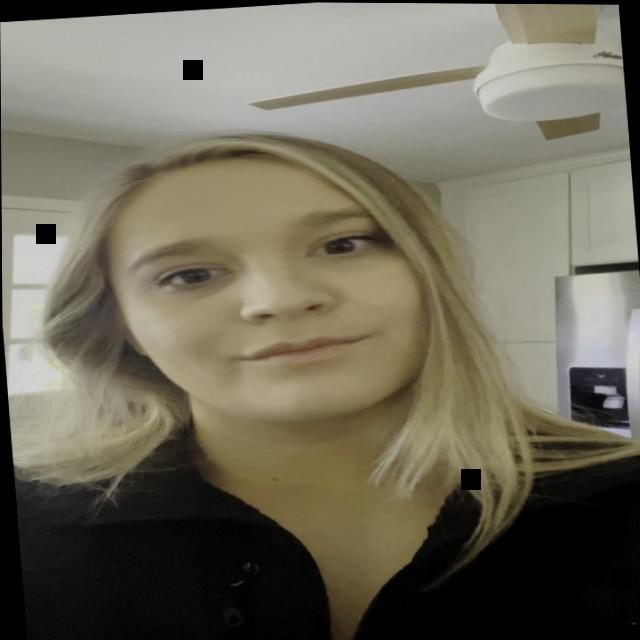NO-Mask: (73, 137, 488, 468)
